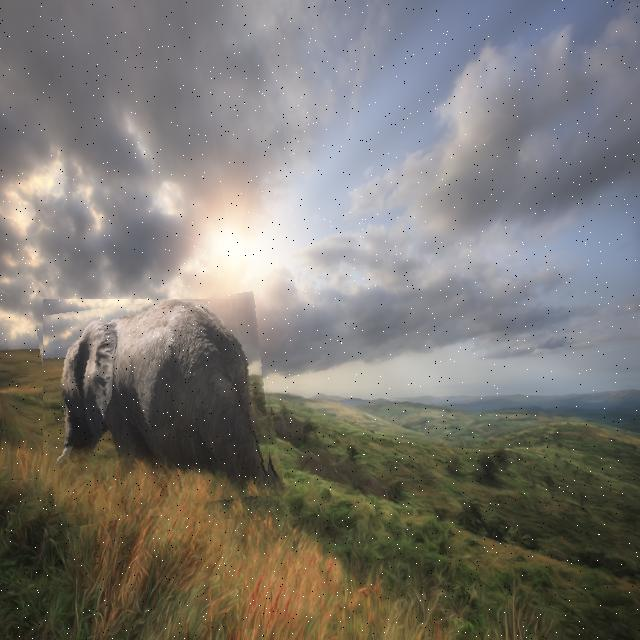elephant: (43, 299, 277, 520)
